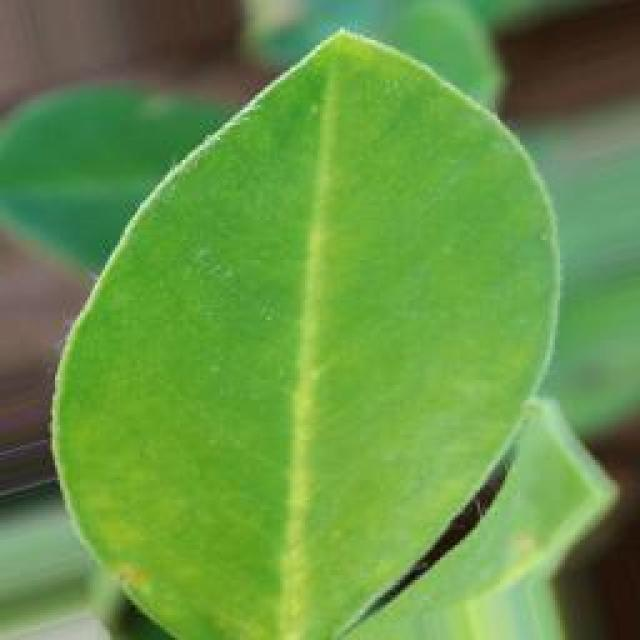Yellow_and_black_sigatoka: (29, 29, 572, 635)
